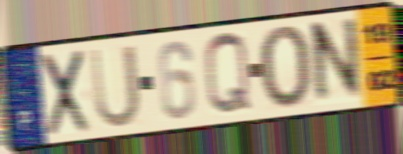6: (156, 38, 197, 122)
N: (312, 14, 364, 110)
O: (256, 23, 312, 112)
Q: (201, 30, 255, 120)
U: (88, 41, 143, 131)
X: (41, 46, 92, 140)
